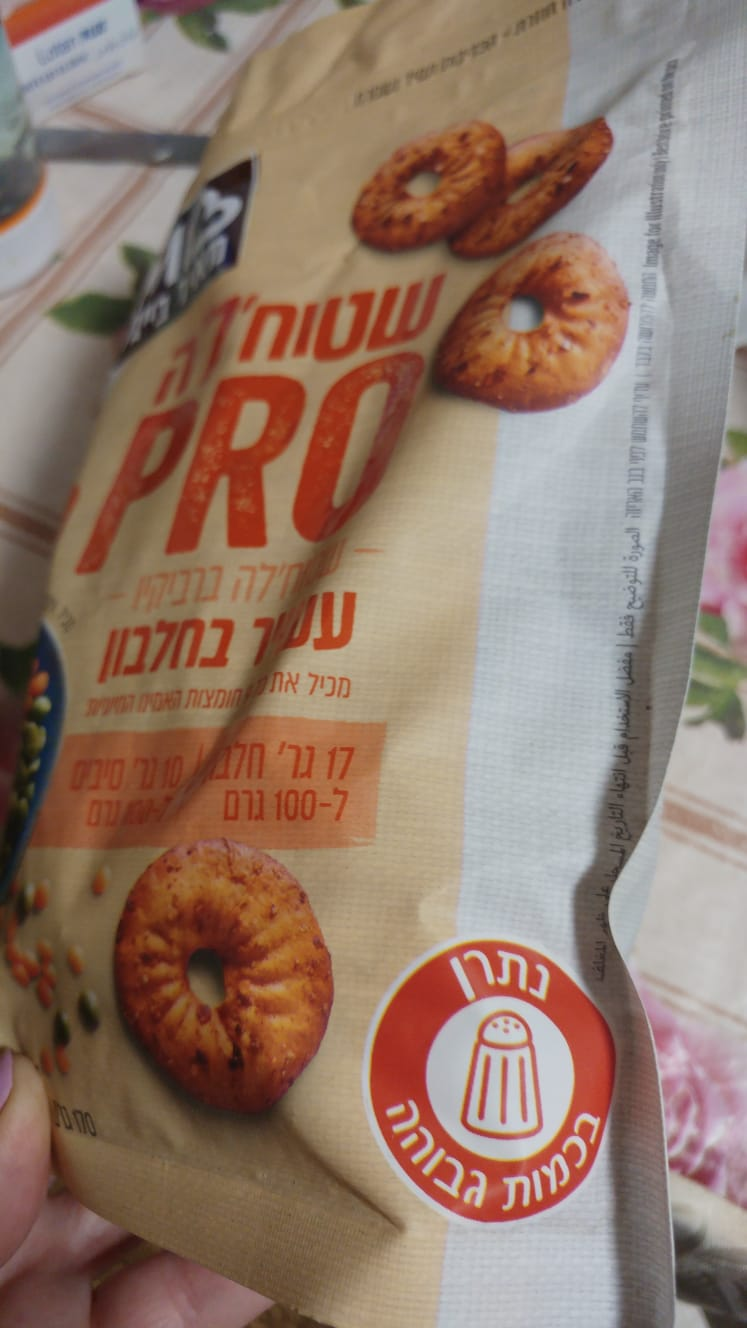salt: (362, 937, 625, 1226)
